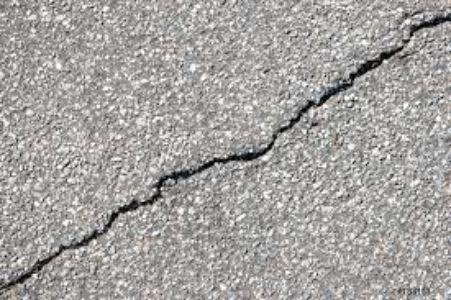crack: (20, 135, 241, 291), (272, 3, 451, 167)
